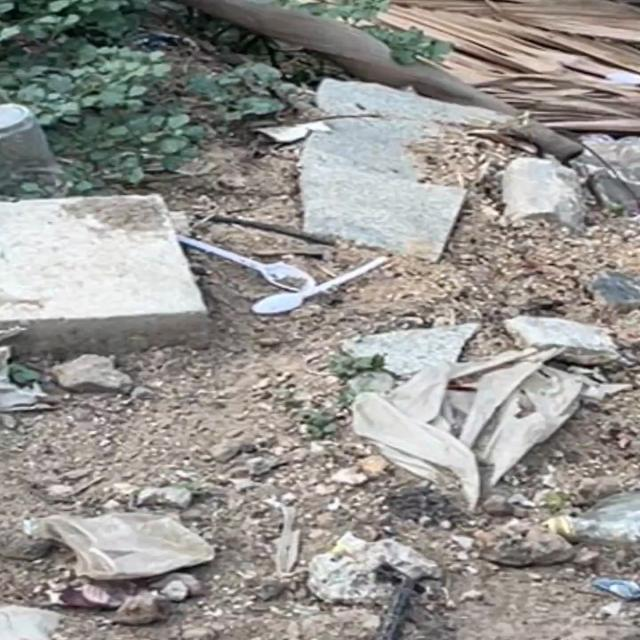dry: (347, 364, 587, 499), (37, 503, 251, 590), (198, 229, 366, 327)
